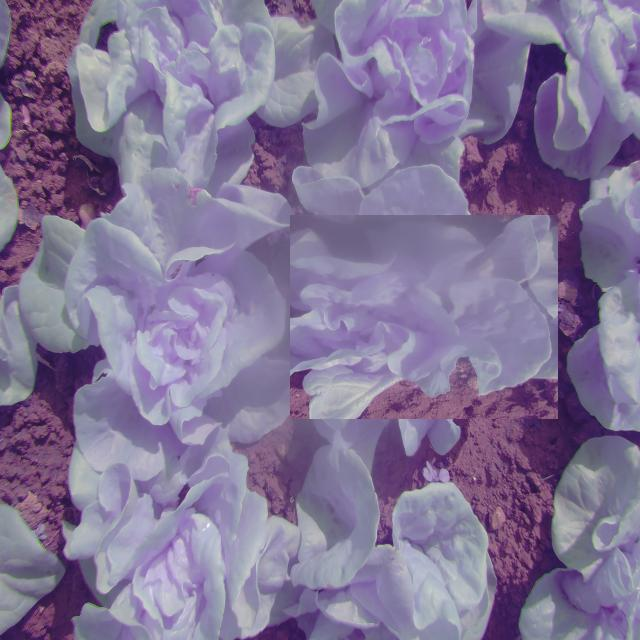vege: (18, 161, 290, 473), (268, 186, 529, 448)
